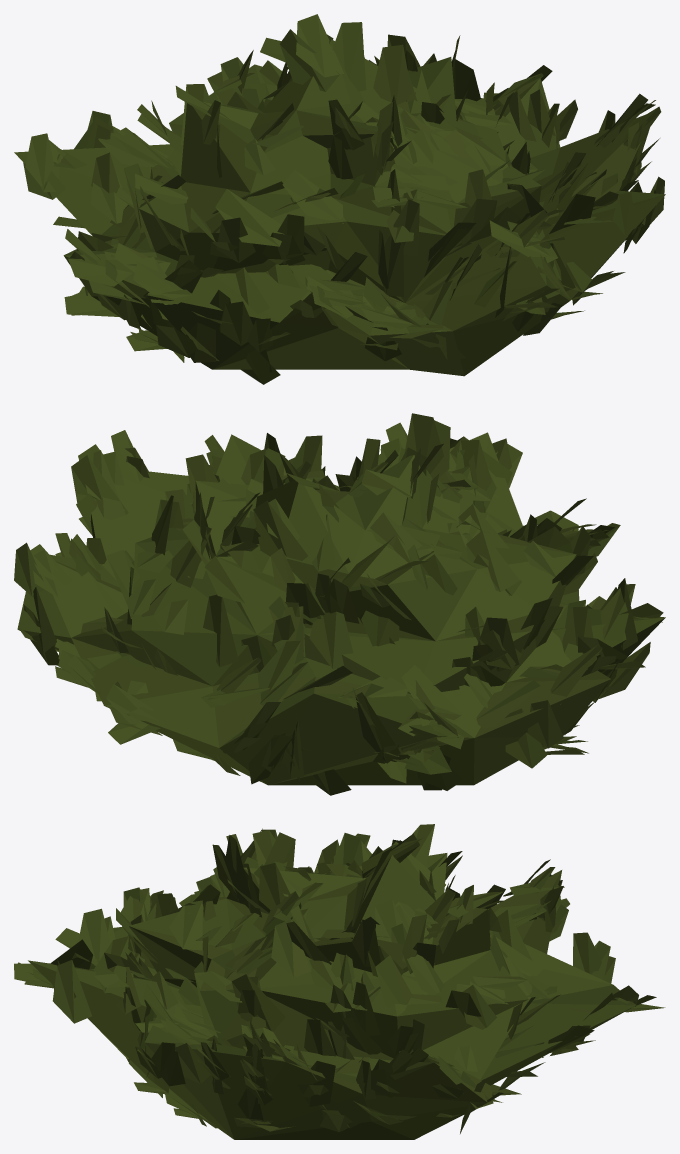
The model's file is SM_Bush_Knee_Timber_Mature_A.fbx.
The picture shows the model from 3 angles, top to bottom: view 1: azimuth 30°, elevation 25°; view 2: azimuth 150°, elevation 25°; view 3: azimuth 270°, elevation 25°; orthographic projection. The views are drawn at different scales.
Parts seen in each view (by area): view 1: bush-knee-timber-mature-a; view 2: bush-knee-timber-mature-a; view 3: bush-knee-timber-mature-a.
Part boxes in pixels (x1,y1,x2,y2): bush-knee-timber-mature-a: [14, 14, 665, 384]; bush-knee-timber-mature-a: [14, 413, 665, 795]; bush-knee-timber-mature-a: [14, 824, 665, 1139].
Bounding box in the file's own units: 3.08 × 1.36 × 3.34.
